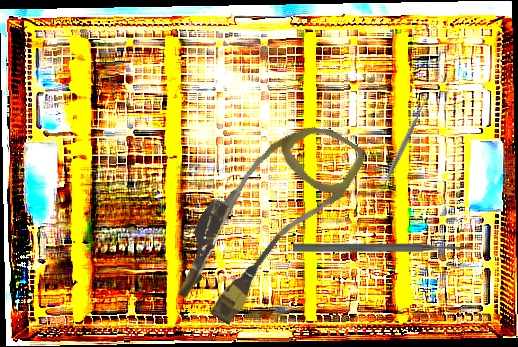Cannula: (160, 95, 370, 341)
Pusher: (293, 242, 472, 254)
Spatula Surgical: (372, 95, 432, 201)
